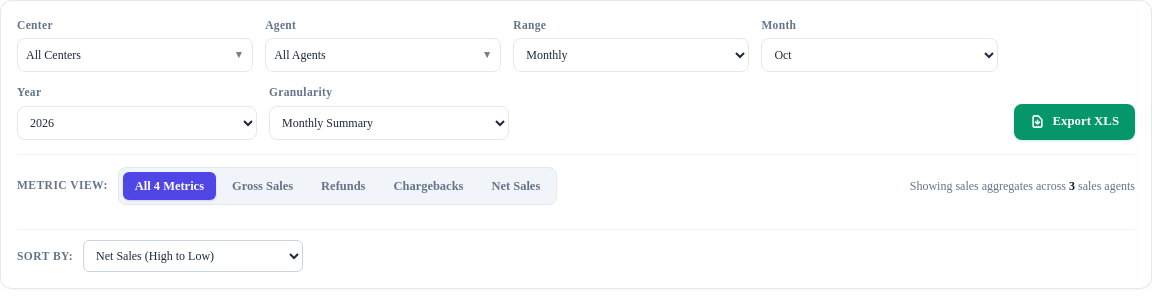
Scenario: W-4403: ReportFilterBar Component (Advance Performance Chart Style) › Phase 46 — Synchronized "All" Checkboxes & Active/Inactive Group Filters › renders interactive Active and Inactive group checkboxes in the Agent dropdown that reflect full selection
Click the button with id "agent-select".
click(383, 55)  # box [265, 38, 501, 72]
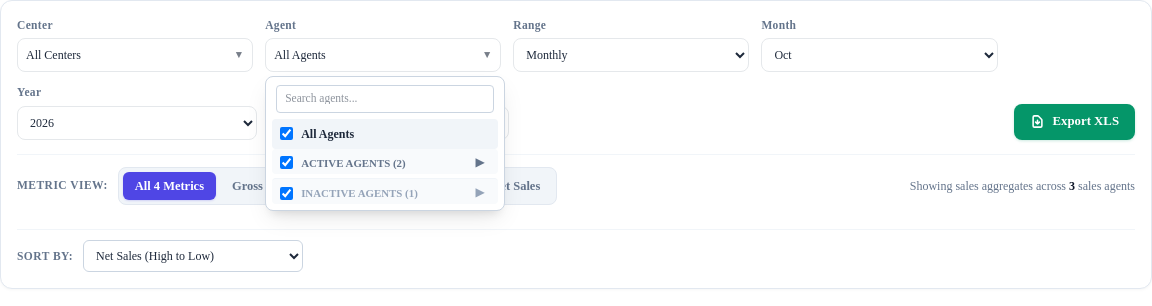
Expected: the checkbox named "select all active agents" is checked, [280, 156, 293, 169]
Expected: the checkbox named "select all inactive agents" is checked, [280, 186, 293, 200]
